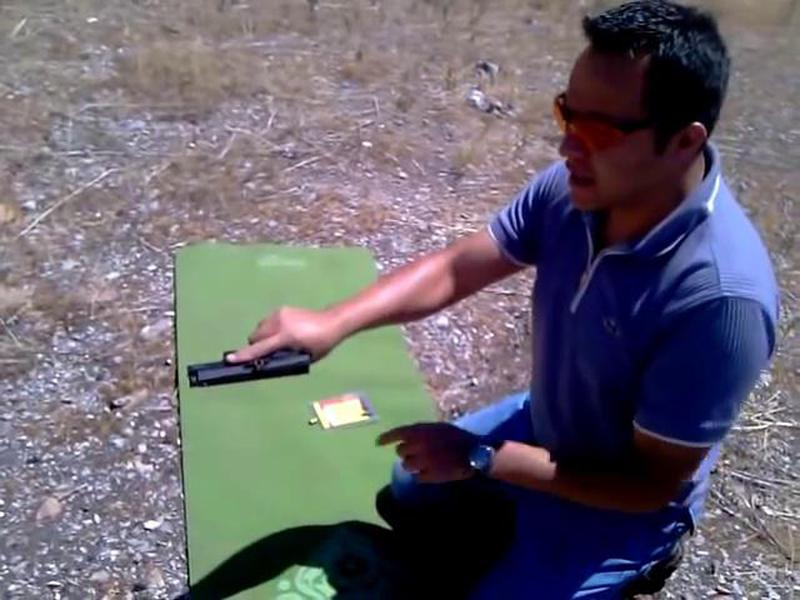Pistola: (172, 322, 329, 416)
